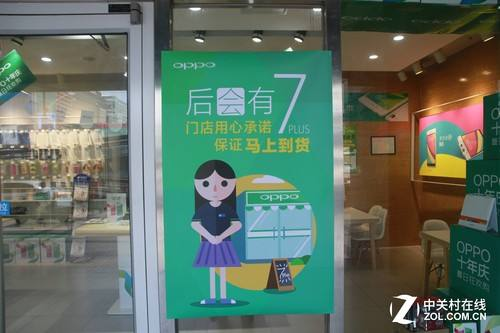bill: (160, 51, 332, 316)
